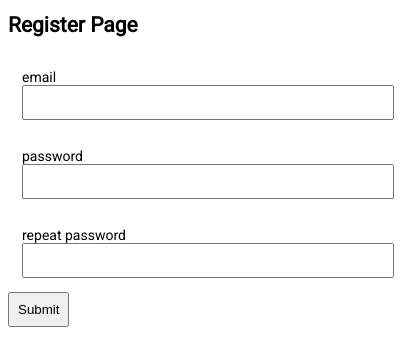
Scenario: Integration::Registration › should display missing email error
This screenshot has width=411, height=360.
Click the button "Submit" at point(39, 309), box left=8, top=292, right=70, bottom=327
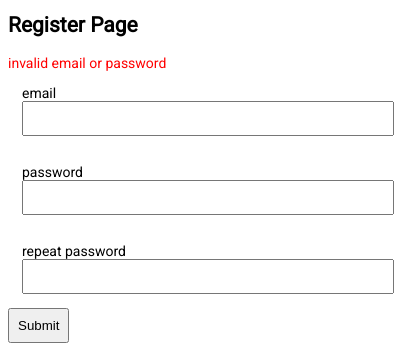
Now the text with test id "errors" shows "invalid", box left=8, top=55, right=166, bottom=71
